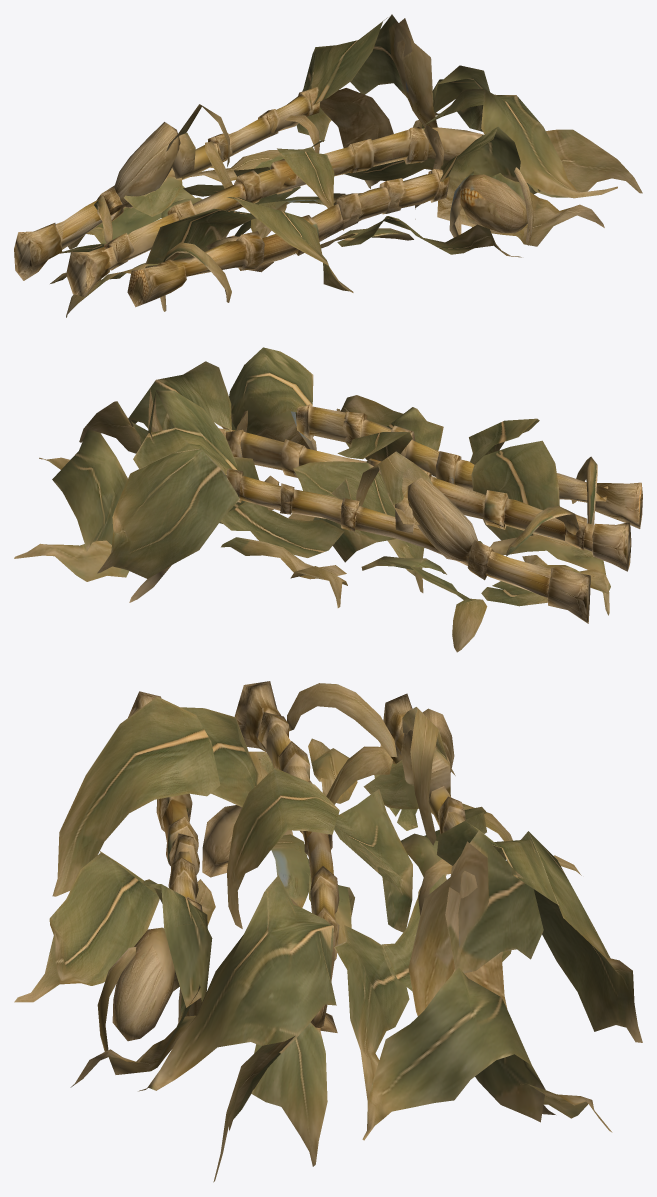
File: fallen-corn-stalk-cluster.glb
The picture shows the model from 3 angles, top to bottom: view 1: azimuth 30°, elevation 25°; view 2: azimuth 150°, elevation 25°; view 3: azimuth 270°, elevation 25°; orthographic projection. The views are drawn at different scales.
Parts seen in each view (by area): view 1: fallen-corn-stalk-cluster; view 2: fallen-corn-stalk-cluster; view 3: fallen-corn-stalk-cluster.
Boxes of the visible parts, x1,y1,x2,y2 form: fallen-corn-stalk-cluster: (14,14,642,317); fallen-corn-stalk-cluster: (14,347,642,652); fallen-corn-stalk-cluster: (14,681,642,1182).
Size of the model in its own units: 1.4 by 0.45 by 0.9.
1 material, 1 textured.
